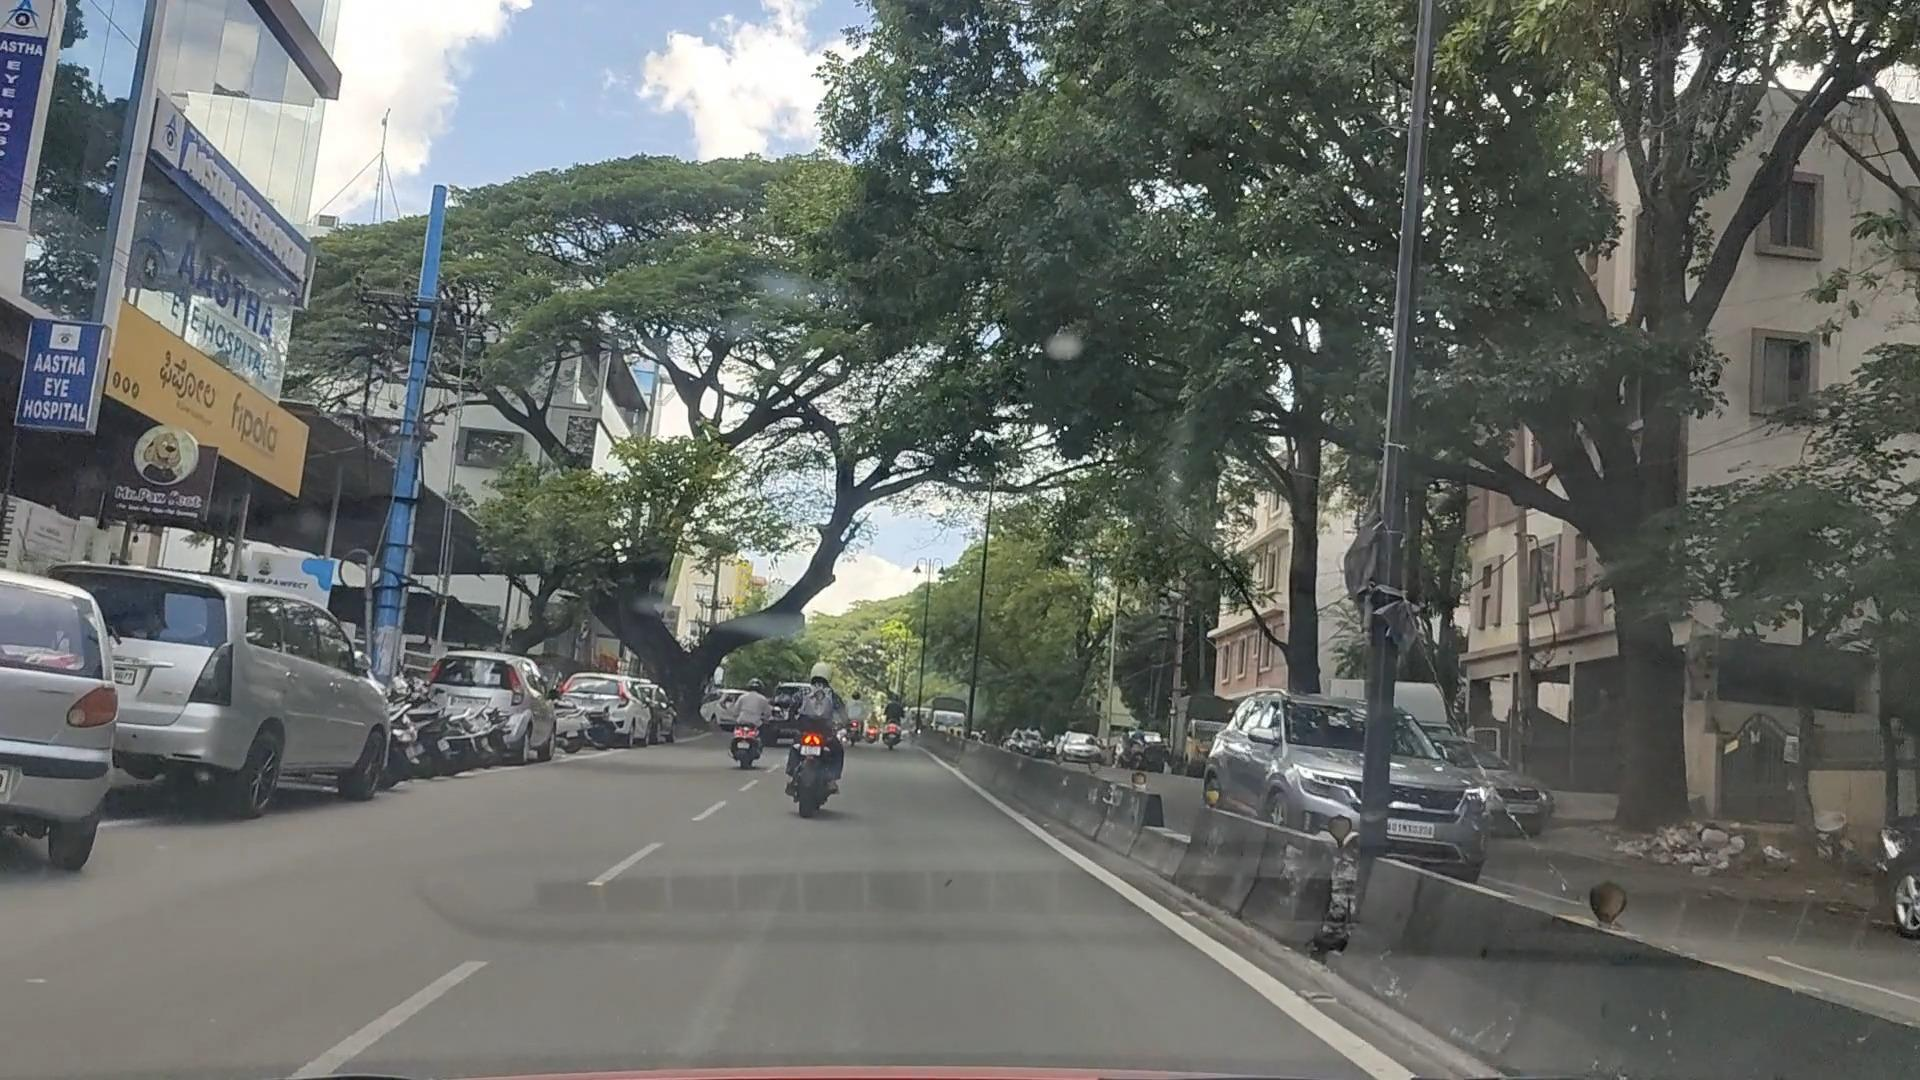LMV: (73, 553, 407, 812), (783, 630, 857, 823)
